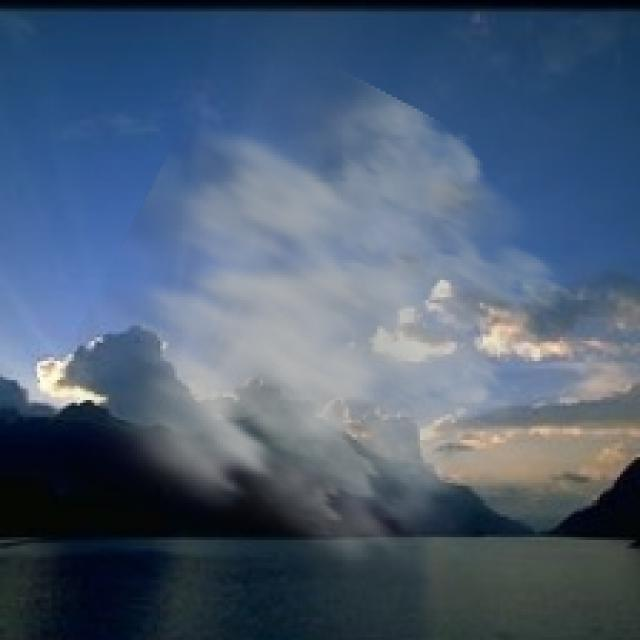smoke: (37, 57, 580, 586)
